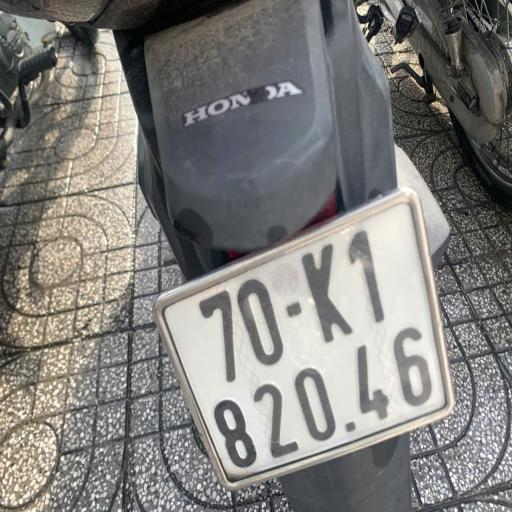0: (238, 273, 290, 374), (288, 364, 351, 446)
1: (342, 219, 392, 327)
2: (246, 375, 300, 471)
4: (343, 336, 399, 432)
6: (389, 320, 445, 412)
7: (190, 287, 246, 396)
8: (207, 393, 270, 482)
K: (291, 238, 369, 350)
